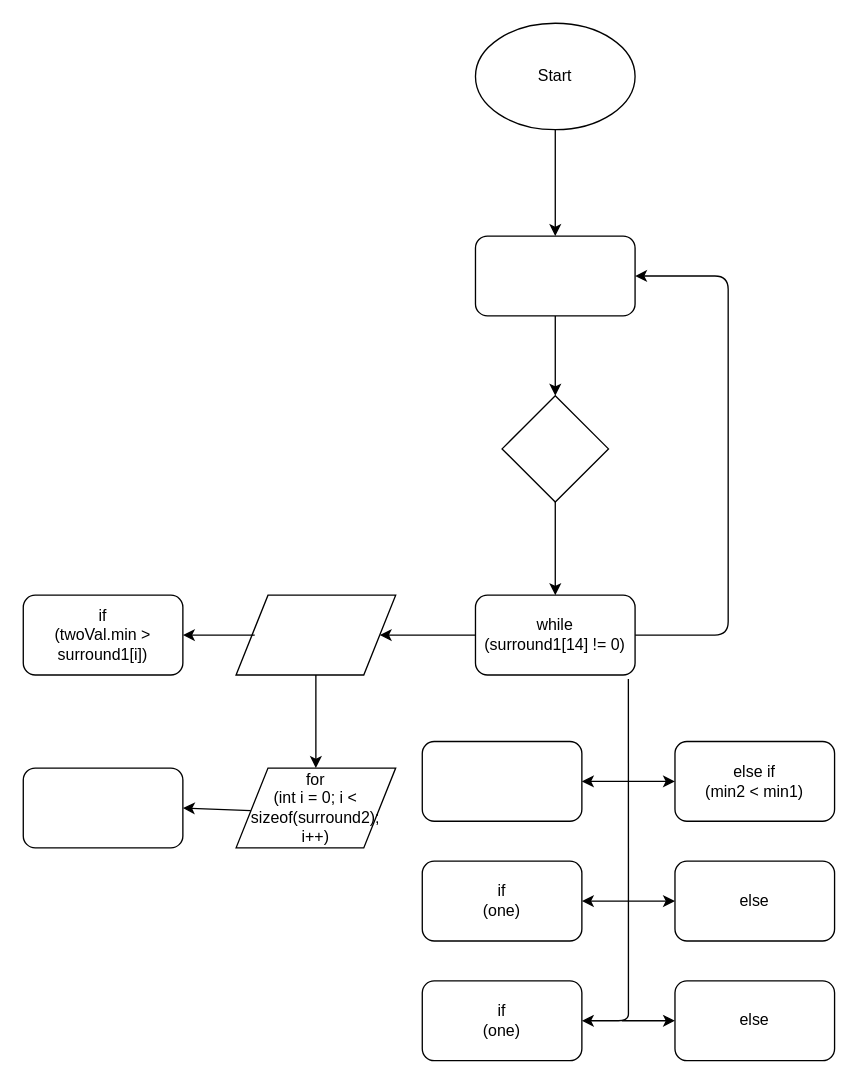
This 858x1084 diagram has some shape labels left out. Here are the shapes that lost their labels. From the top down, the box of each, then its label:
(474, 235, 635, 316): Do
(501, 394, 608, 502): if (time1[T1] > tIntvl)
(235, 594, 396, 675): for ( int i = 0 ; i < sizeof (surround1); i++)
(421, 740, 582, 821): if (min1 < min2)
(22, 767, 183, 848): if (twoVal. min > surround2[i])
